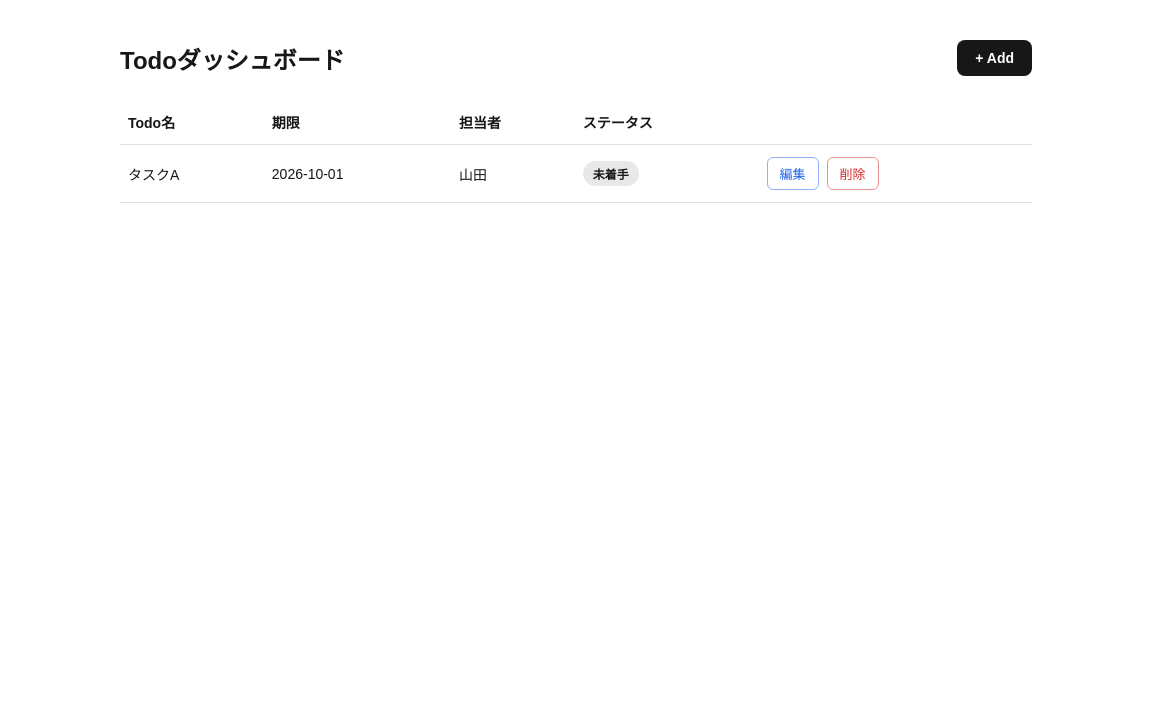
it: TodoDashboard › opens the edit modal prefilled on 編集 click, and reflects the updated todo in the list on success
Click the button "編集": (792, 174) [766,157,818,190]
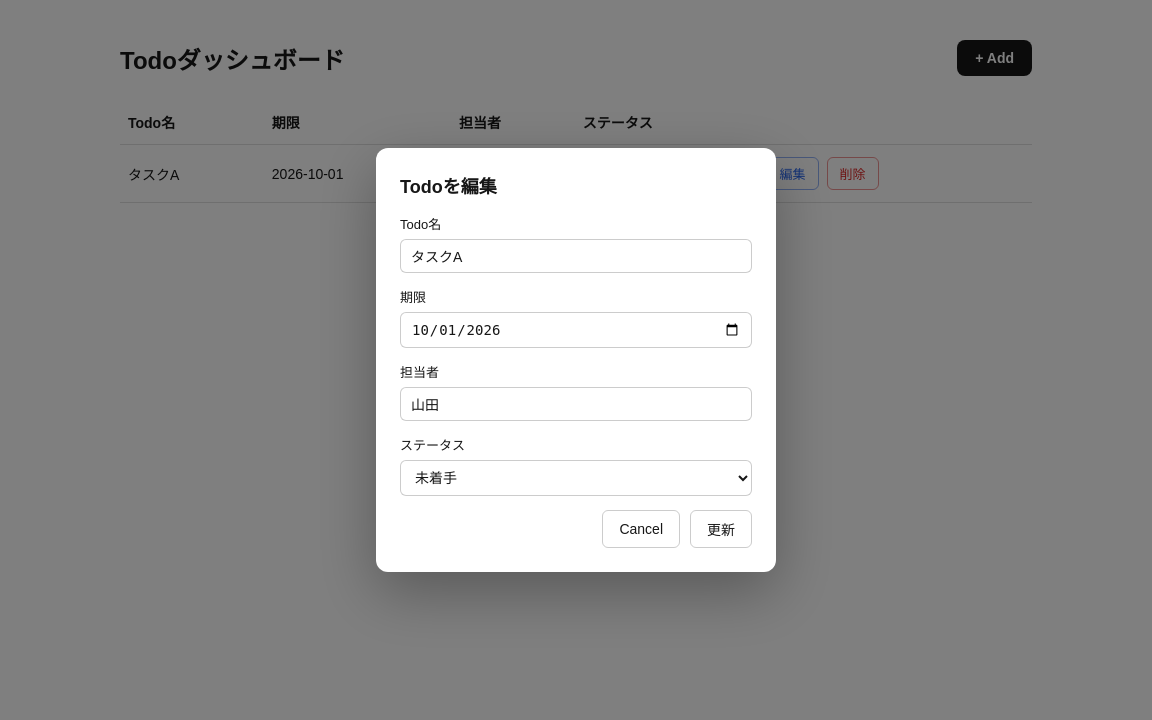
Result: the heading "Todoを編集" is shown at [400,177,497,197]
Result: the field labelled "Todo名" holds "タスクA"
Replace the text in the field labelled "Todo名" with "更新後タスク": (576, 256) [400,239,752,273]
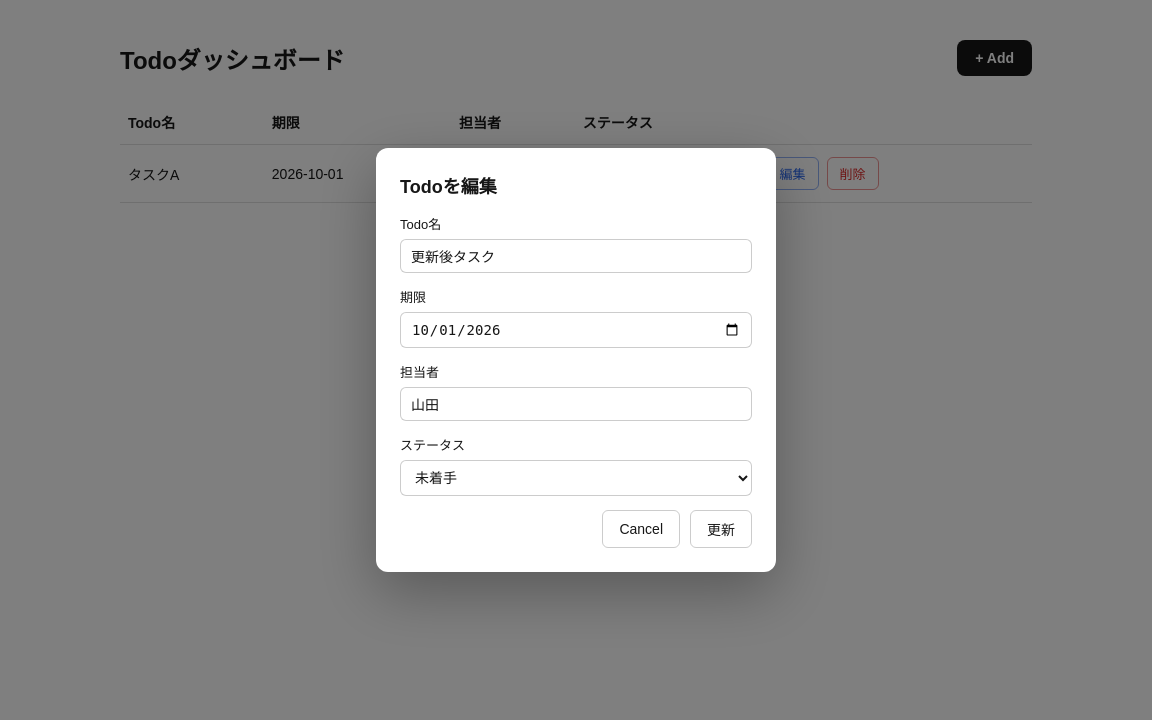
Click the button "更新": (721, 529) [690,510,752,548]
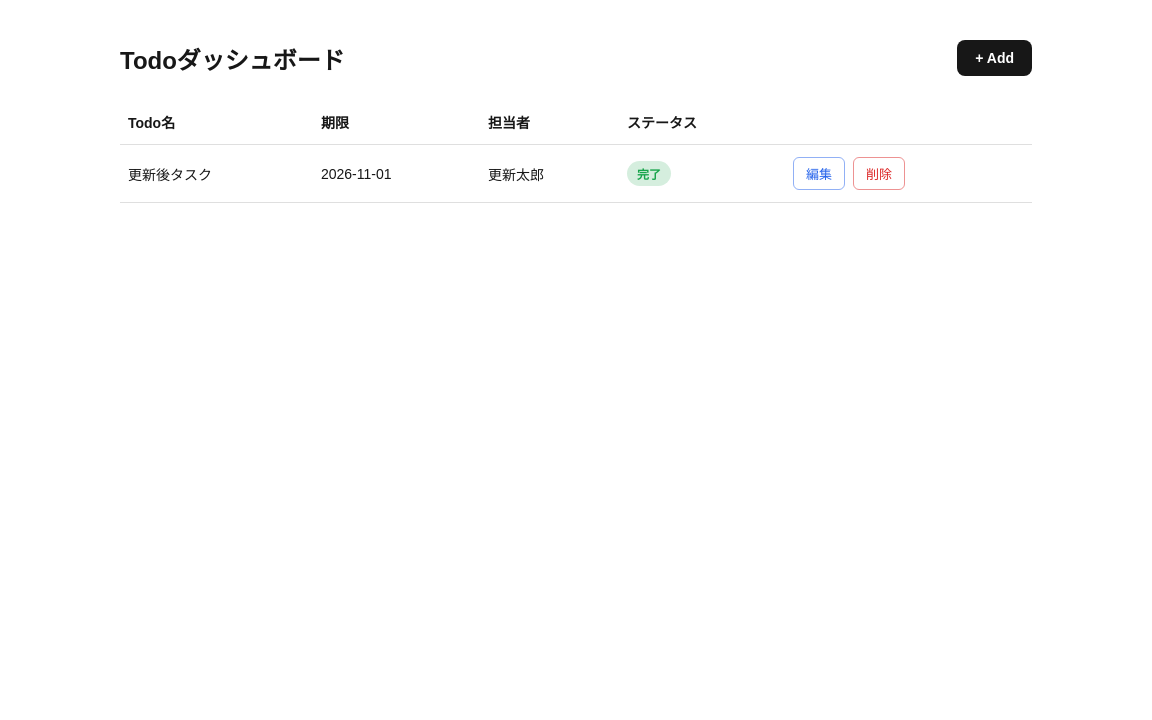
Result: the heading "Todoを編集" is gone
Result: the text "更新後タスク" is shown at [120,144,313,202]
Result: the text "タスクA" is gone
